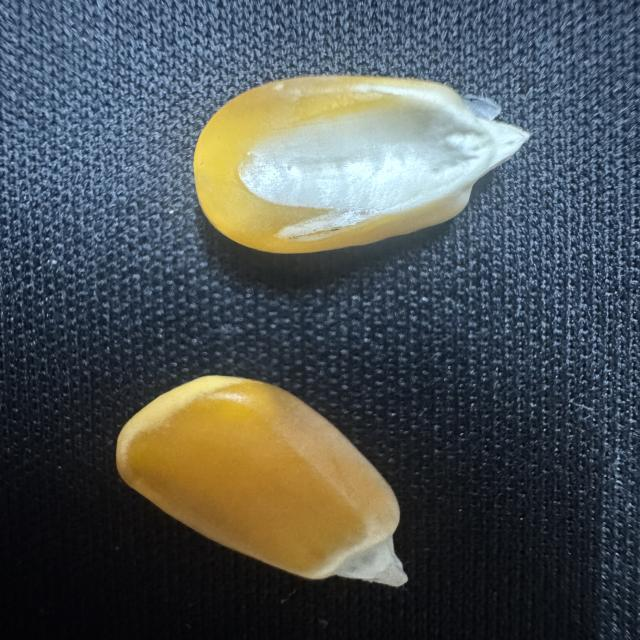Good-Seed: (102, 364, 429, 596), (183, 65, 546, 264)
